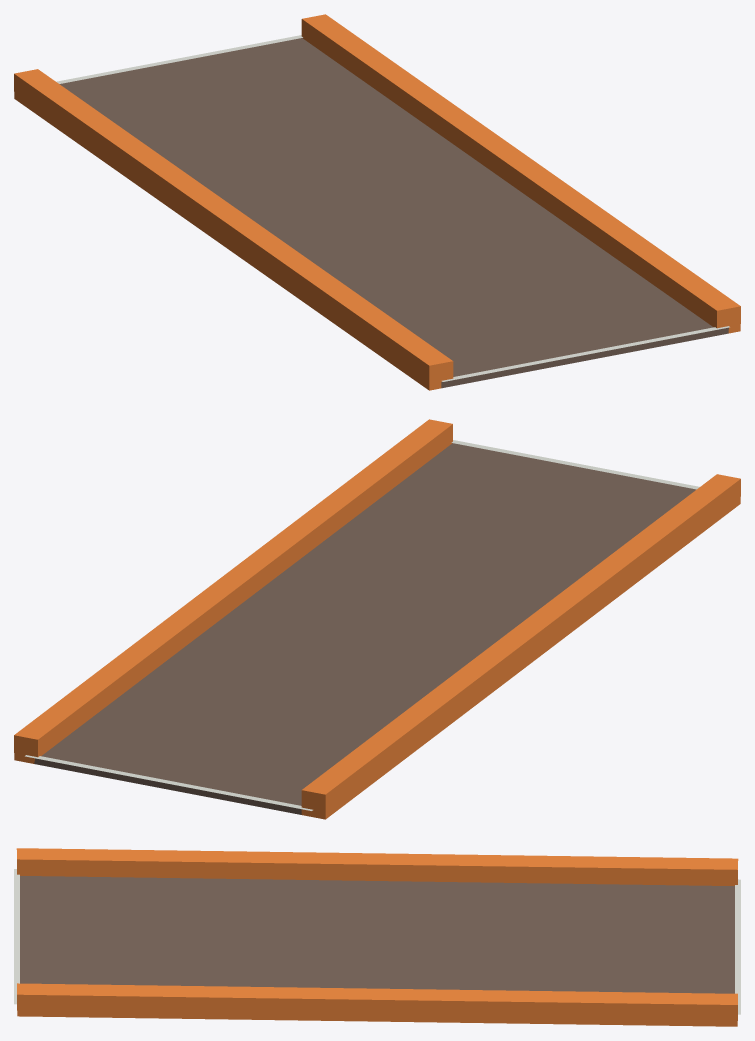
The model's file is SM_MP_Film_B_0_3.fbx.
The picture shows the model from 3 angles, top to bottom: view 1: azimuth 30°, elevation 25°; view 2: azimuth 150°, elevation 25°; view 3: azimuth 270°, elevation 25°; orthographic projection. The views are drawn at different scales.
Parts seen in each view (by area): view 1: SM_MP_Film_B_0_3; view 2: SM_MP_Film_B_0_3; view 3: SM_MP_Film_B_0_3.
Part boxes in pixels (x1=…): SM_MP_Film_B_0_3: x1=14, y1=14, x2=740, y2=390; SM_MP_Film_B_0_3: x1=14, y1=419, x2=740, y2=819; SM_MP_Film_B_0_3: x1=14, y1=848, x2=740, y2=1026.
Size of what is drawn, in the model's own units: 260 by 605 by 42.82.
